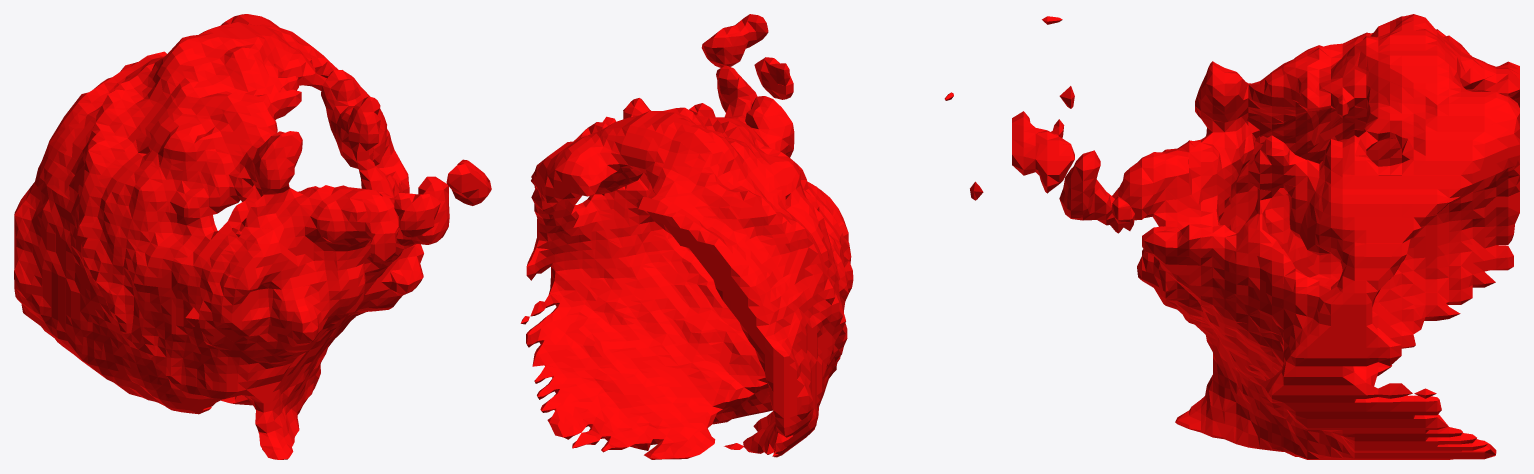
Rendered from B939XXXX-1_valve_29.obj.
3 views of the same model, side by side, from view 1: azimuth 30°, elevation 25°; view 2: azimuth 150°, elevation 25°; view 3: azimuth 270°, elevation 25° (orthographic). The views are drawn at different scales.
Parts seen in each view (by area): view 1: 29_valve; view 2: 29_valve; view 3: 29_valve.
Boxes of the visible parts, <box> form: 29_valve: <box>14,14,491,459</box>; 29_valve: <box>520,14,983,459</box>; 29_valve: <box>1012,14,1519,459</box>.
Size of the model in its own units: 76.95 by 76.97 by 85.95.
